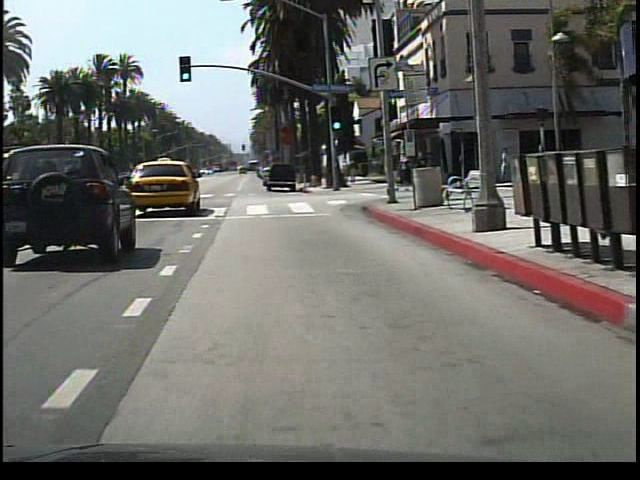person: (495, 143, 514, 187), (392, 148, 408, 196)
